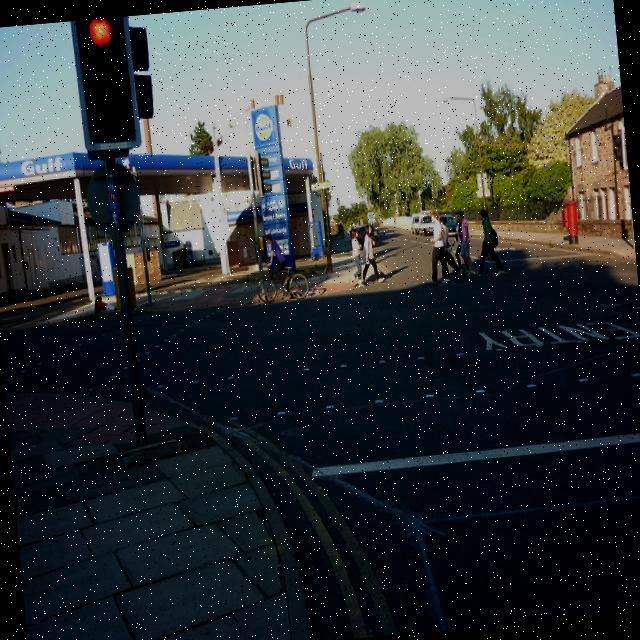fire_hydrant: (558, 198, 580, 246)
